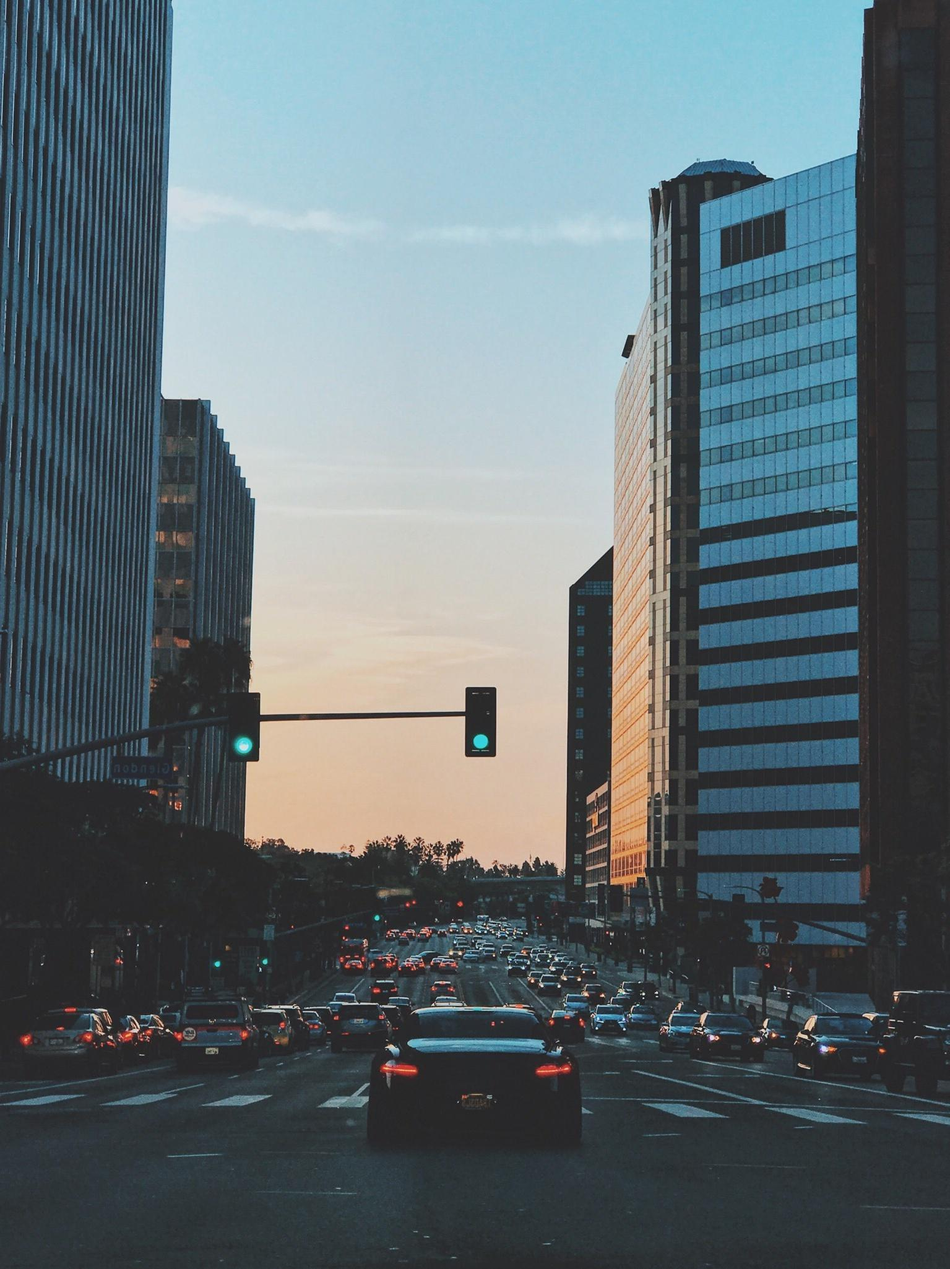green: (452, 669, 507, 761)
